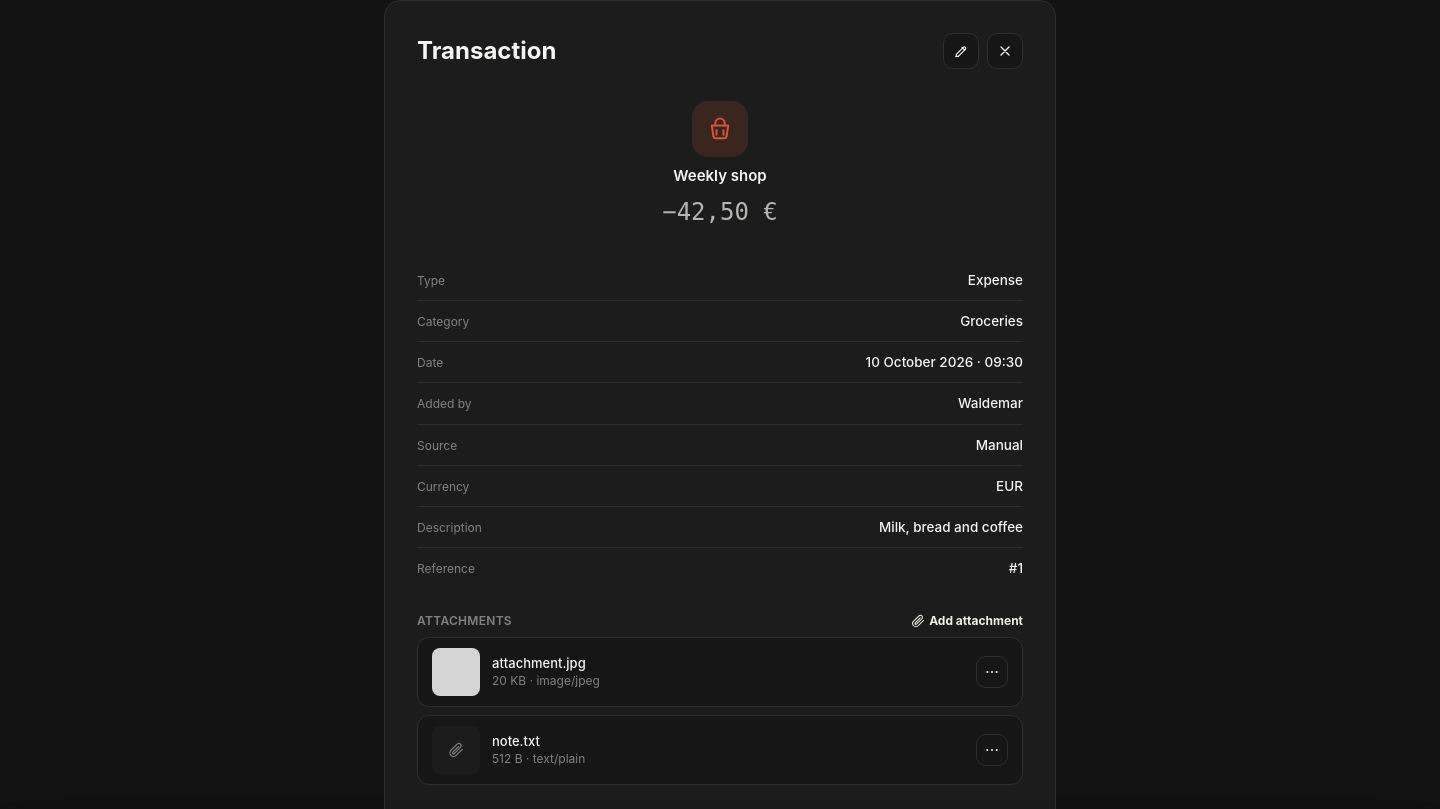
Test: TransactionDetailPage › resets every edited field back to the saved values
Expected: the text "Weekly shop" is shown, [673,165,767,188]
Step 1. Click the button named "Edit" → point(961, 51), box [943,33,979,69]
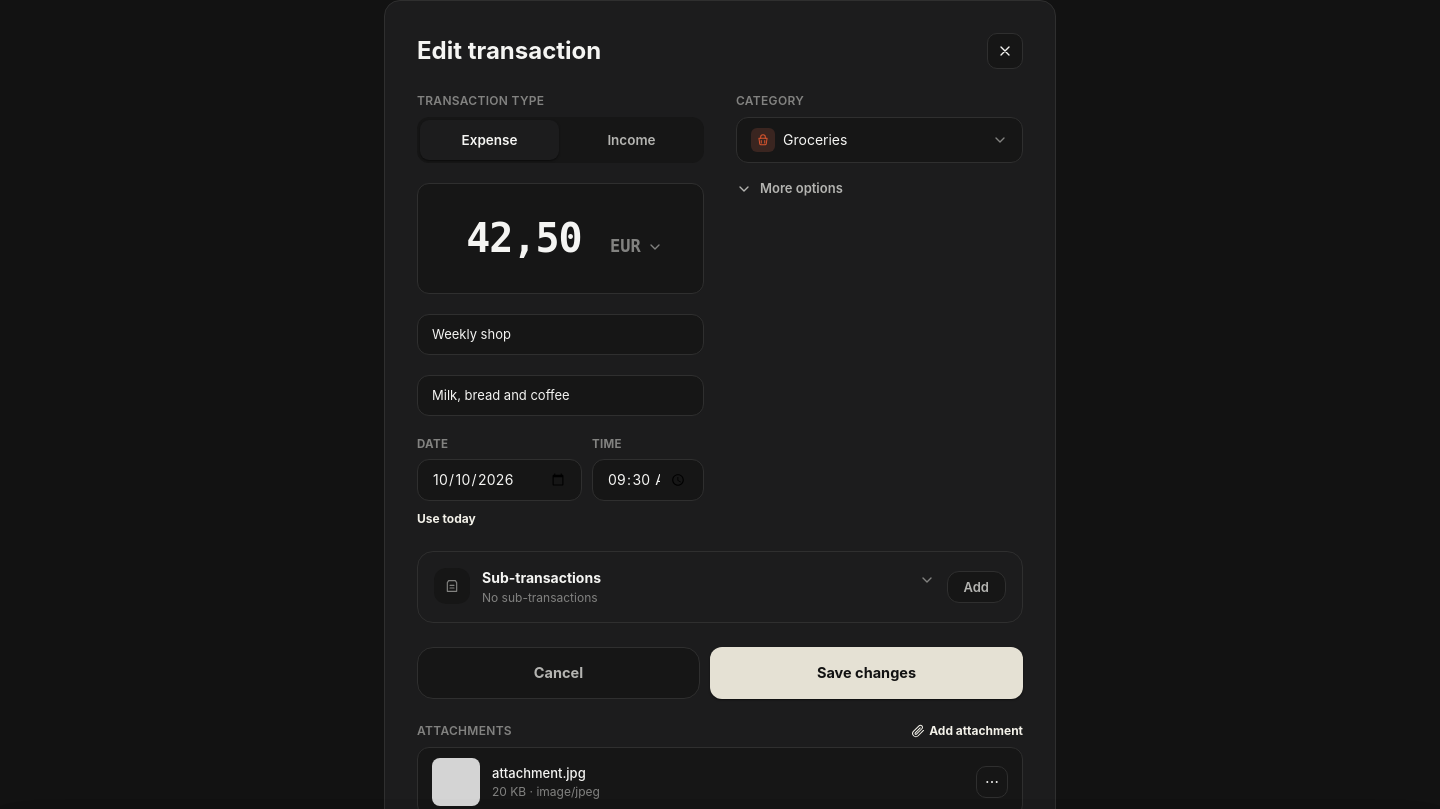
Step 2. Replace the text in the field named "Transaction name" with "Changed" → point(560, 335), box [417,314,704,355]
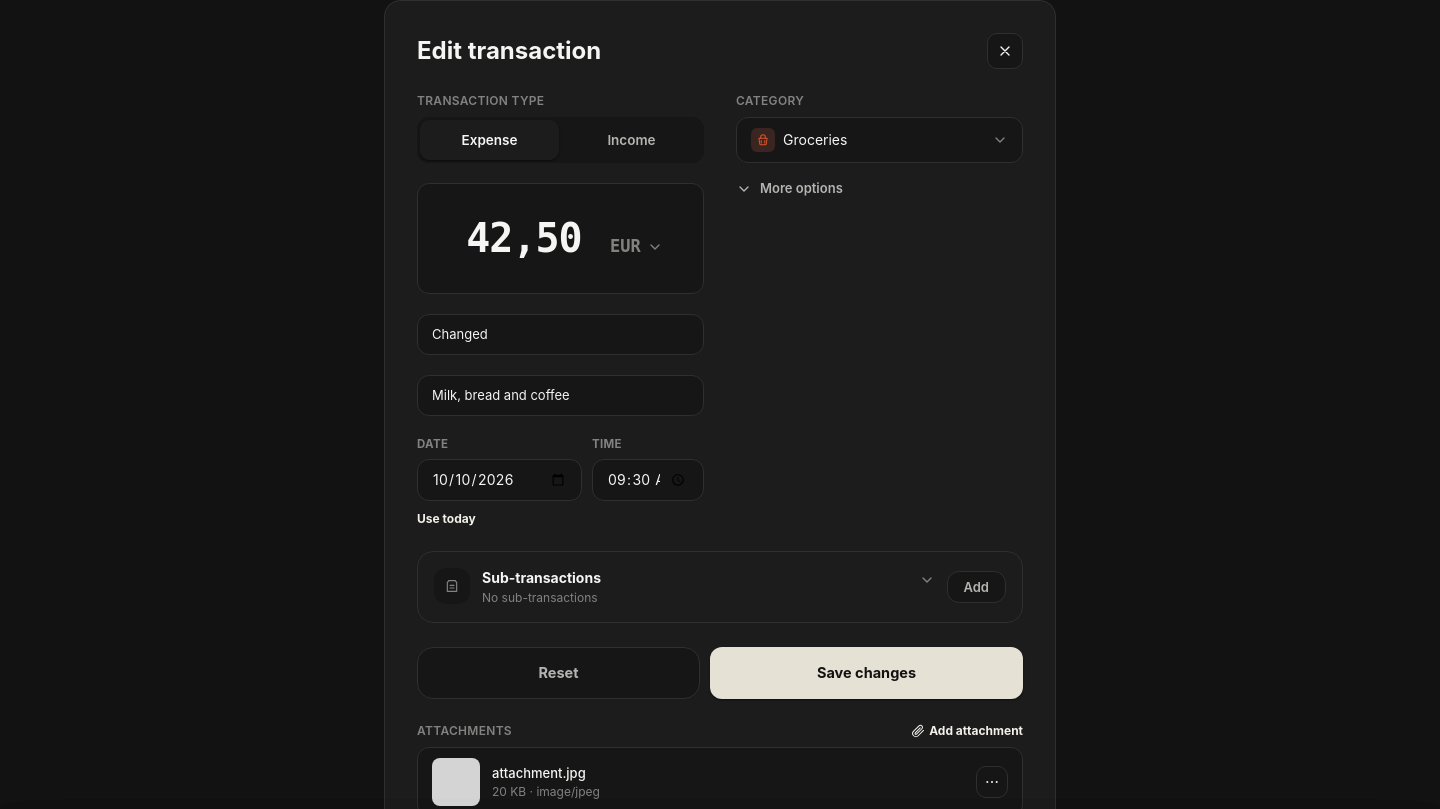
Step 3. Click the button "Reset" → point(558, 673), box [417,648,700,699]
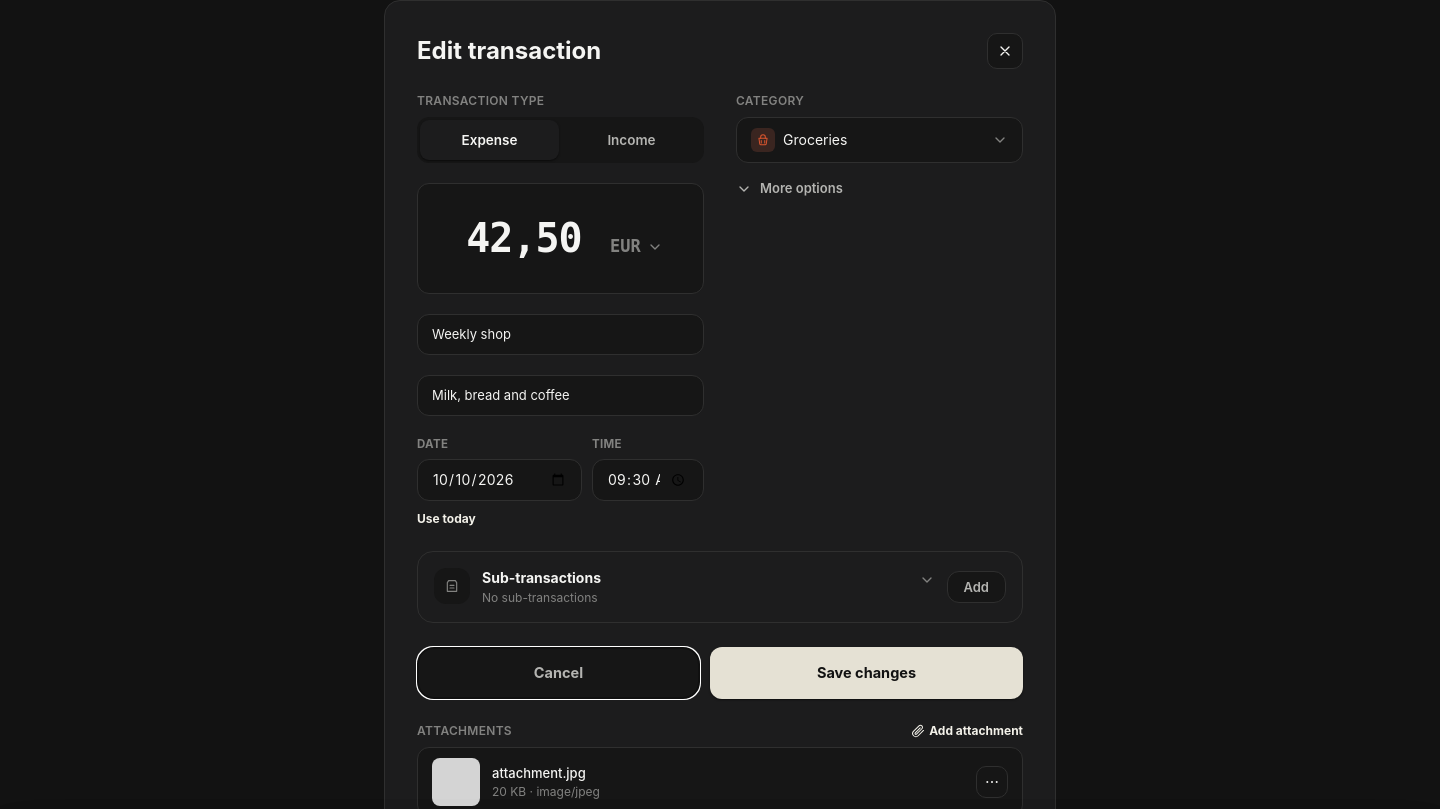
Expected: the field named "Transaction description" holds "Milk, bread and coffee", [417,375,704,416]
Expected: the field named "Transaction name" holds "Weekly shop", [417,314,704,355]
Expected: the button "Cancel" is shown, [417,648,700,699]
